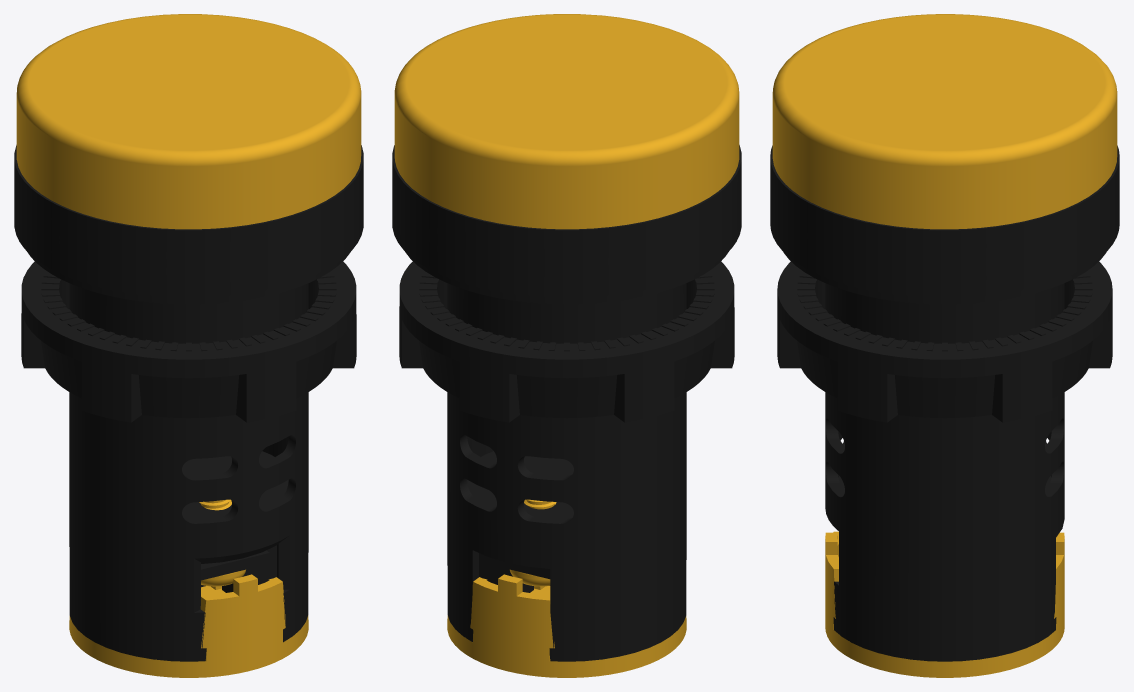
Rendered from AD16-22DS Pilot Light Yellow.fbx.
3 views of the same model, side by side, from view 1: azimuth 30°, elevation 25°; view 2: azimuth 150°, elevation 25°; view 3: azimuth 270°, elevation 25° (orthographic).
Visible parts, largest first — view 1: Body1, Body2, Body3, Body4, Body5, Body6; view 2: Body1, Body2, Body3, Body4, Body8, Body7; view 3: Body1, Body2, Body3, Body4.
Part boxes in pixels (bbox=[...]): Body1: bbox=[14, 145, 363, 661]; Body2: bbox=[16, 14, 361, 229]; Body3: bbox=[21, 261, 356, 422]; Body4: bbox=[69, 574, 308, 677]; Body5: bbox=[201, 550, 269, 580]; Body6: bbox=[199, 499, 245, 586]; Body1: bbox=[392, 145, 741, 661]; Body2: bbox=[394, 14, 739, 229]; Body3: bbox=[399, 261, 734, 422]; Body4: bbox=[447, 574, 686, 677]; Body8: bbox=[510, 499, 556, 586]; Body7: bbox=[486, 556, 550, 579]; Body1: bbox=[770, 145, 1119, 661]; Body2: bbox=[772, 14, 1117, 229]; Body3: bbox=[777, 261, 1112, 422]; Body4: bbox=[825, 531, 1064, 677].
Size of the model in its own units: 29.2 by 50.2 by 29.2.
